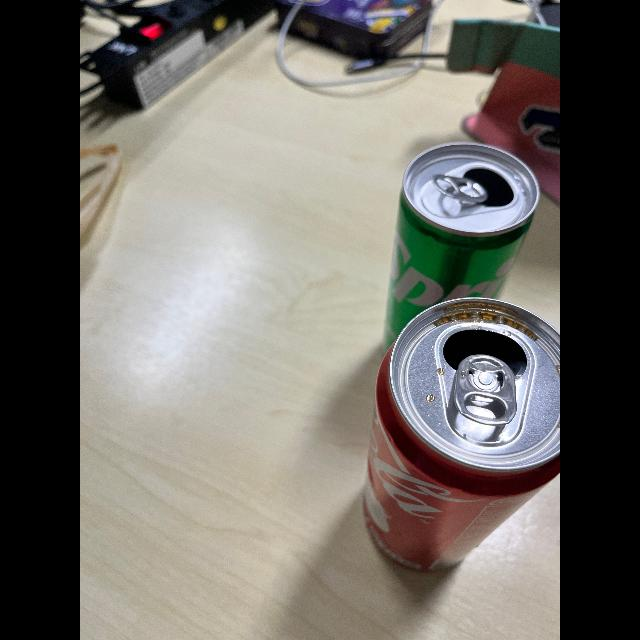can: (358, 297, 560, 573), (379, 132, 539, 338)
